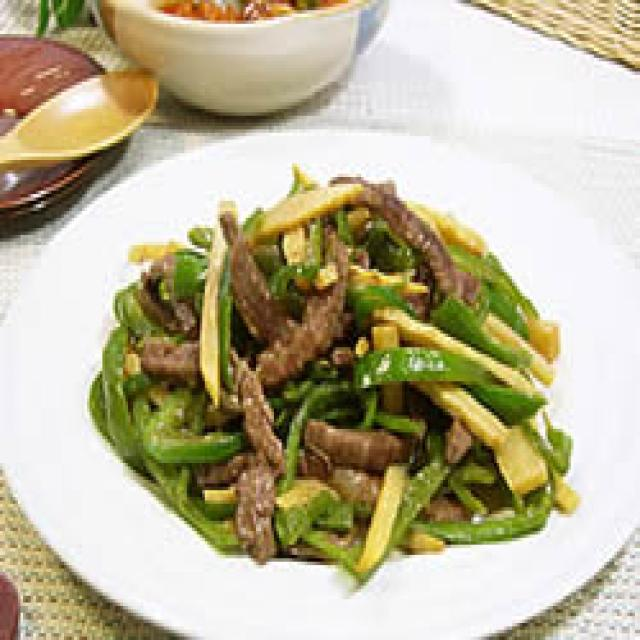牛肉菜式: (79, 160, 592, 582)
